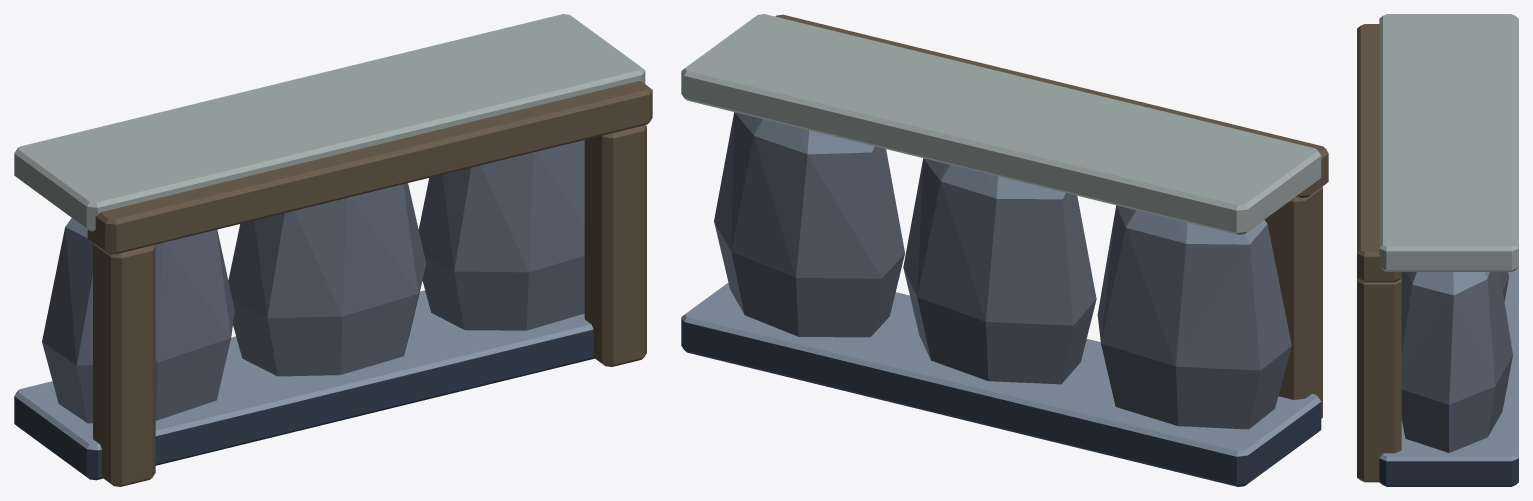
File: wall-straight.glb
3 views of the same model, side by side, from view 1: azimuth 30°, elevation 25°; view 2: azimuth 150°, elevation 25°; view 3: azimuth 270°, elevation 25° (orthographic). The views are drawn at different scales.
Visible parts, largest first — view 1: wall-straight__body; view 2: wall-straight__body; view 3: wall-straight__body.
Boxes of the visible parts, x1=… form: wall-straight__body: x1=14, y1=14, x2=652, y2=486; wall-straight__body: x1=681, y1=14, x2=1328, y2=486; wall-straight__body: x1=1357, y1=14, x2=1518, y2=486.
Size of the model in its own units: 2.01 by 0.95 by 0.58.
